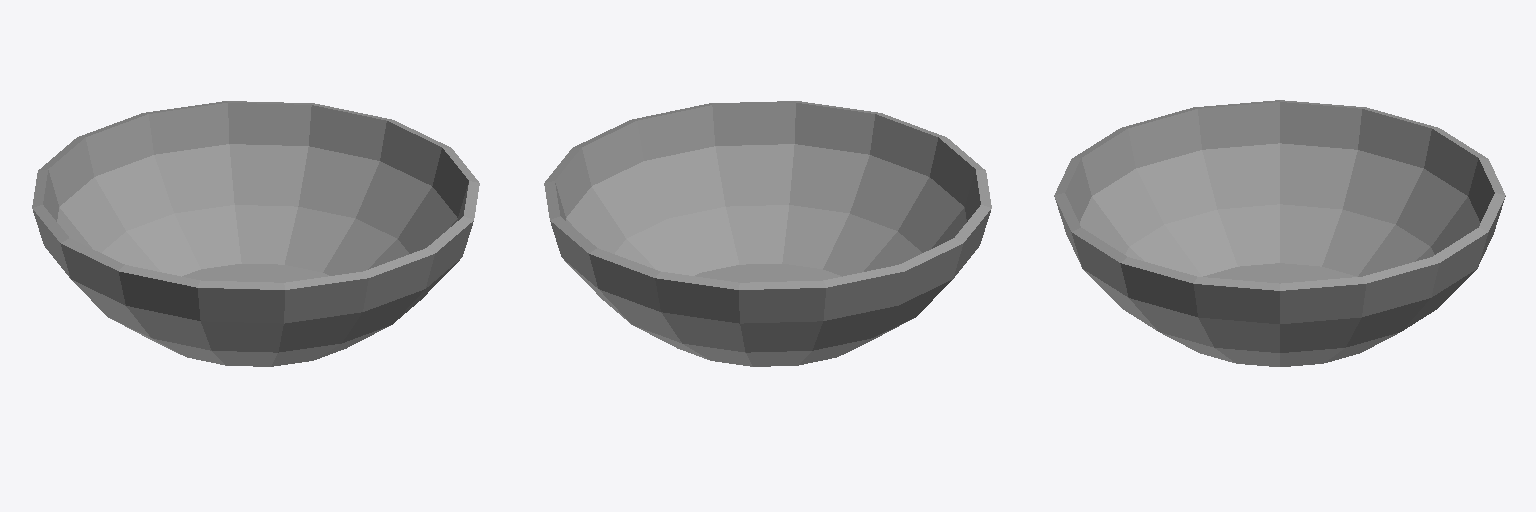
Rendered from bowl.obj.
The picture shows the model from 3 angles: view 1: azimuth 30°, elevation 25°; view 2: azimuth 150°, elevation 25°; view 3: azimuth 270°, elevation 25°; orthographic projection.
Parts seen in each view (by area): view 1: Circle_Circle.002; view 2: Circle_Circle.002; view 3: Circle_Circle.002.
Part boxes in pixels (left/top/right/bottom): Circle_Circle.002: left=32, top=101, right=479, bottom=366; Circle_Circle.002: left=544, top=101, right=991, bottom=366; Circle_Circle.002: left=1054, top=100, right=1505, bottom=366.
Size of the model in its own units: 3.97 by 1.23 by 3.97.